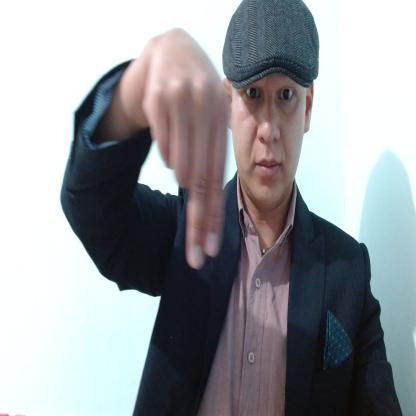N: (143, 27, 229, 268)
